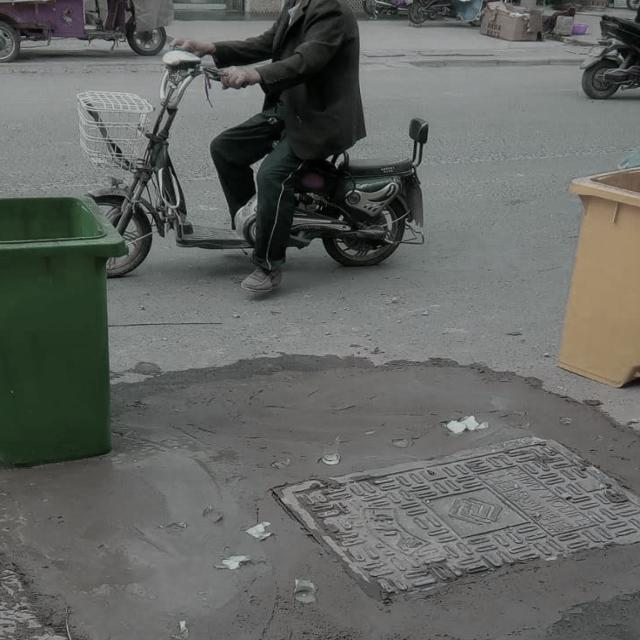good: (270, 436, 640, 598)
